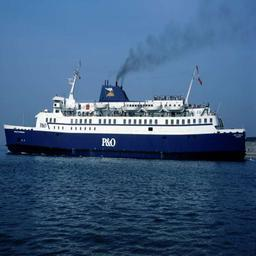Ship: (7, 76, 250, 165)
